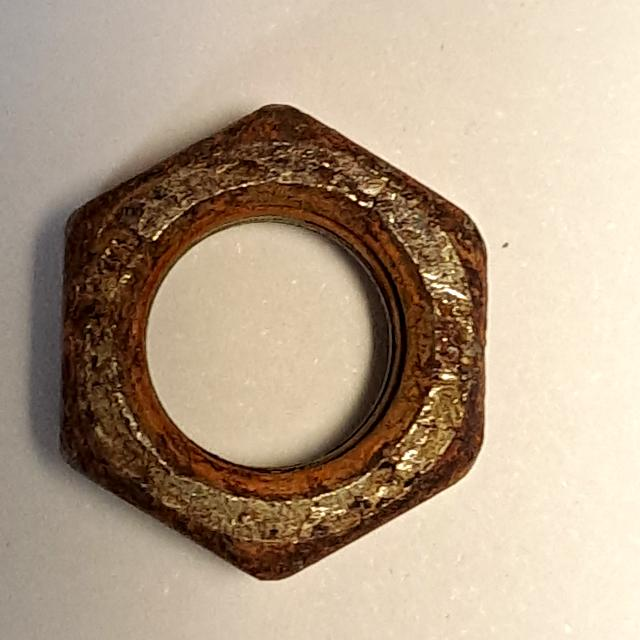Rust: (44, 96, 499, 595)
